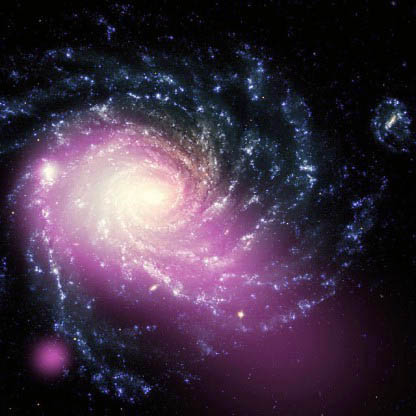NGC 1232: (10, 25, 406, 391)
